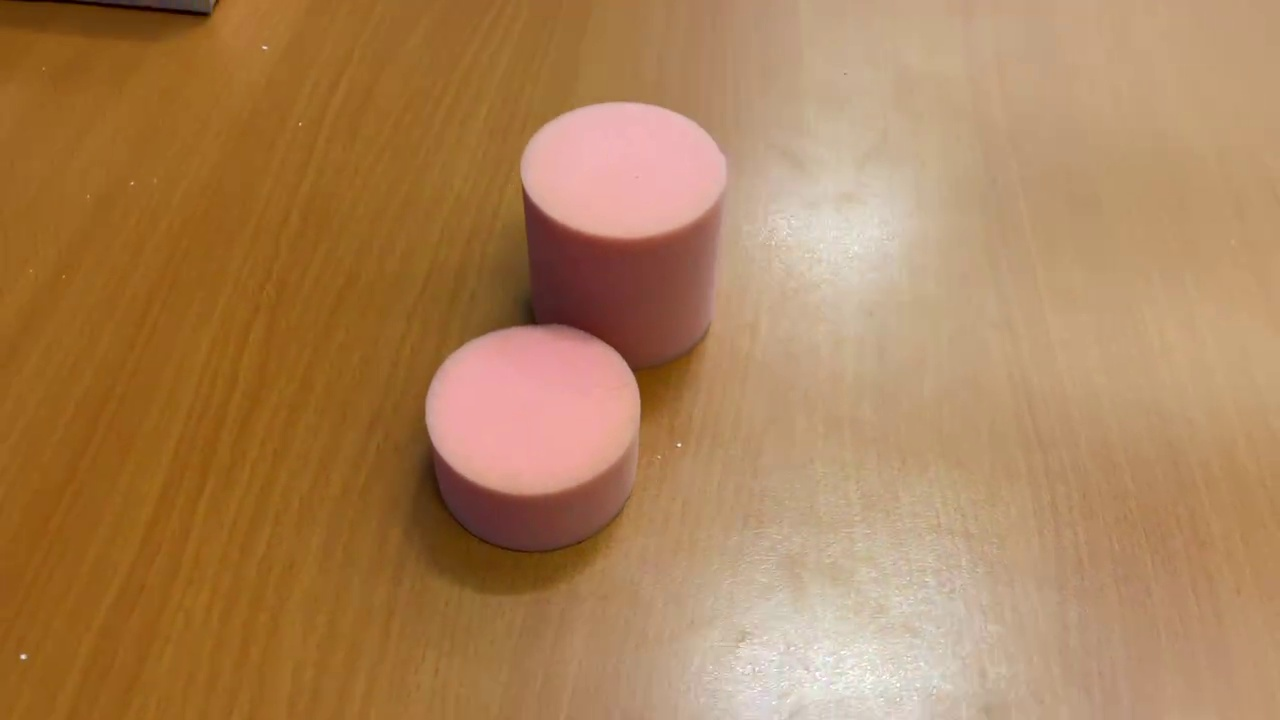Clyinder_short: (411, 318, 653, 562)
Cylinder: (514, 96, 731, 371)
